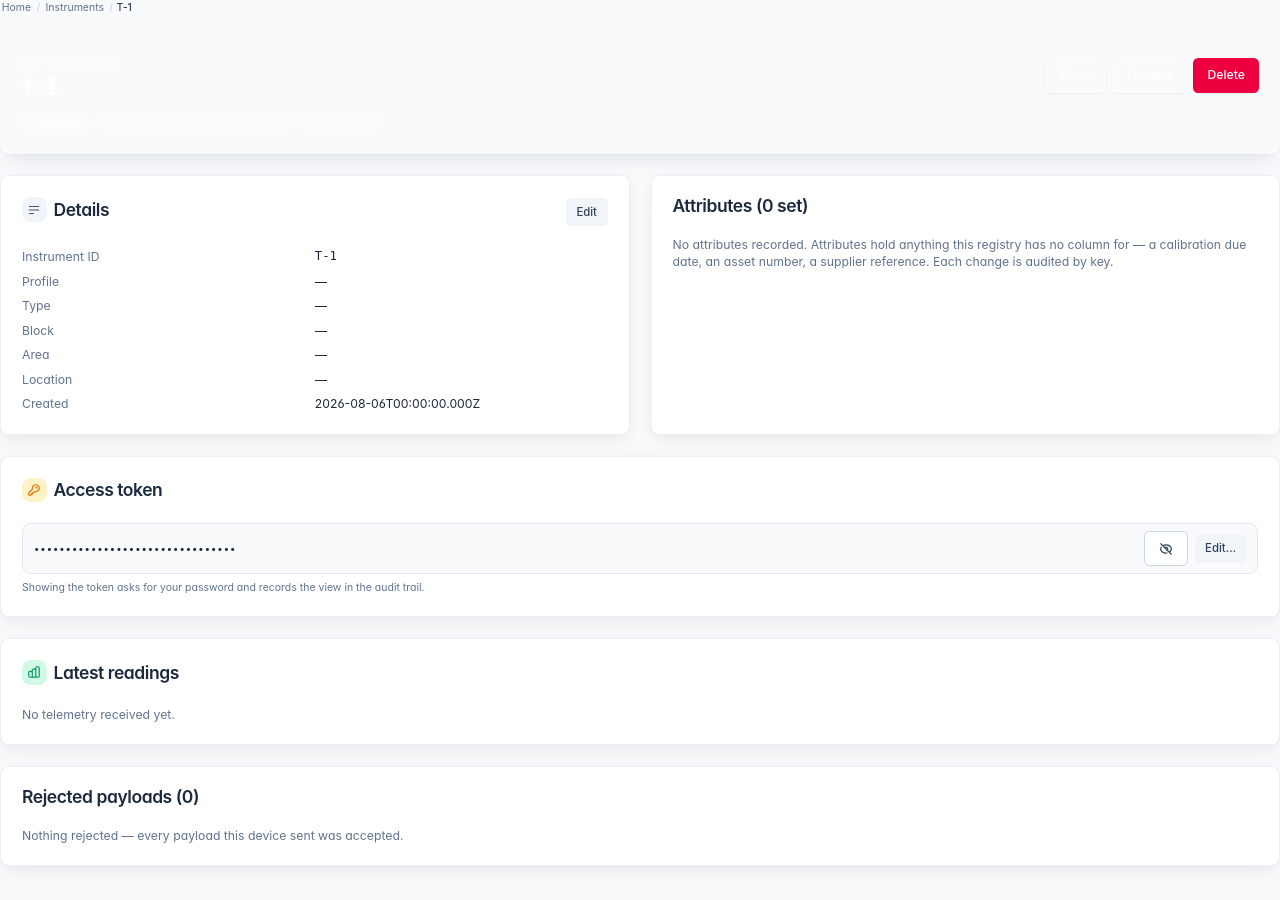
Test: instrument detail — delete confirmation › opens the dialog, naming the instrument, without deleting
The image size is (1280, 900).
Click the button "Delete". click: (1226, 75)
box: [1193,58,1259,93]
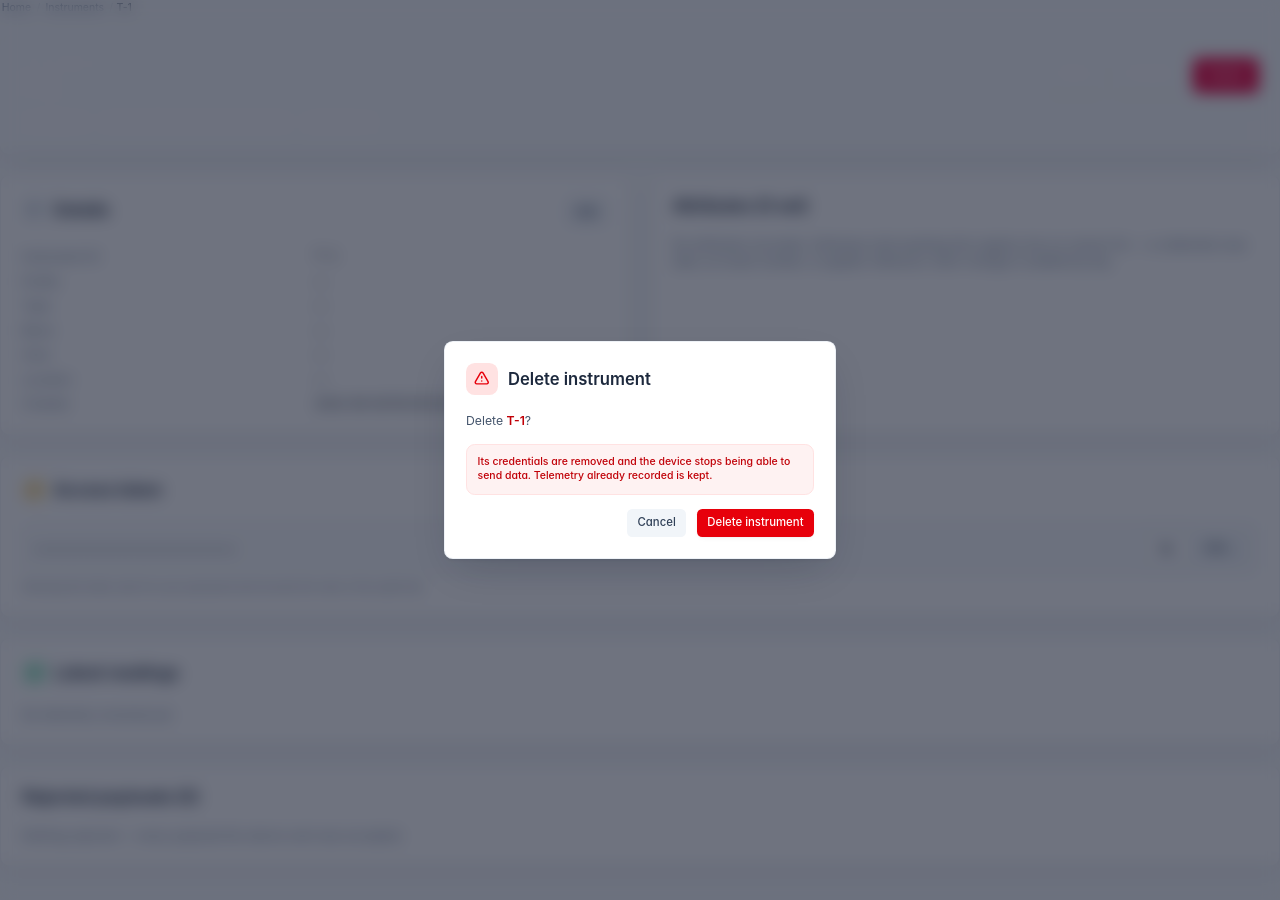
Now the text "stops being able to send data" is shown, box [478,455,790,482]
